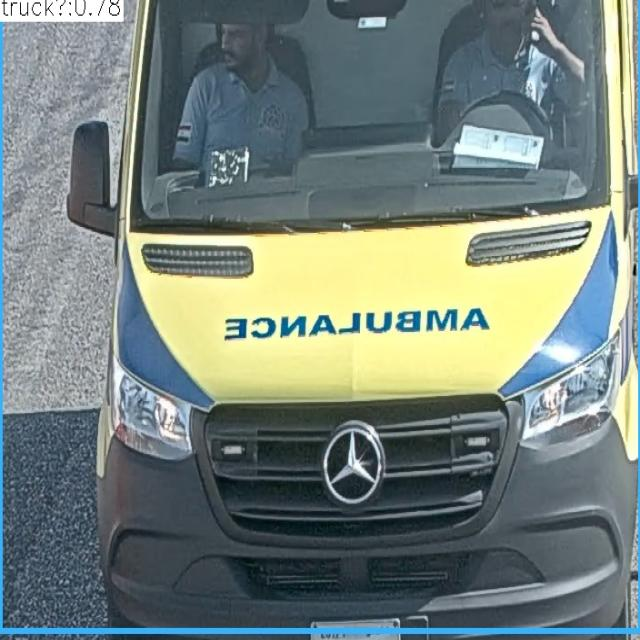windshield: (116, 3, 608, 224)
